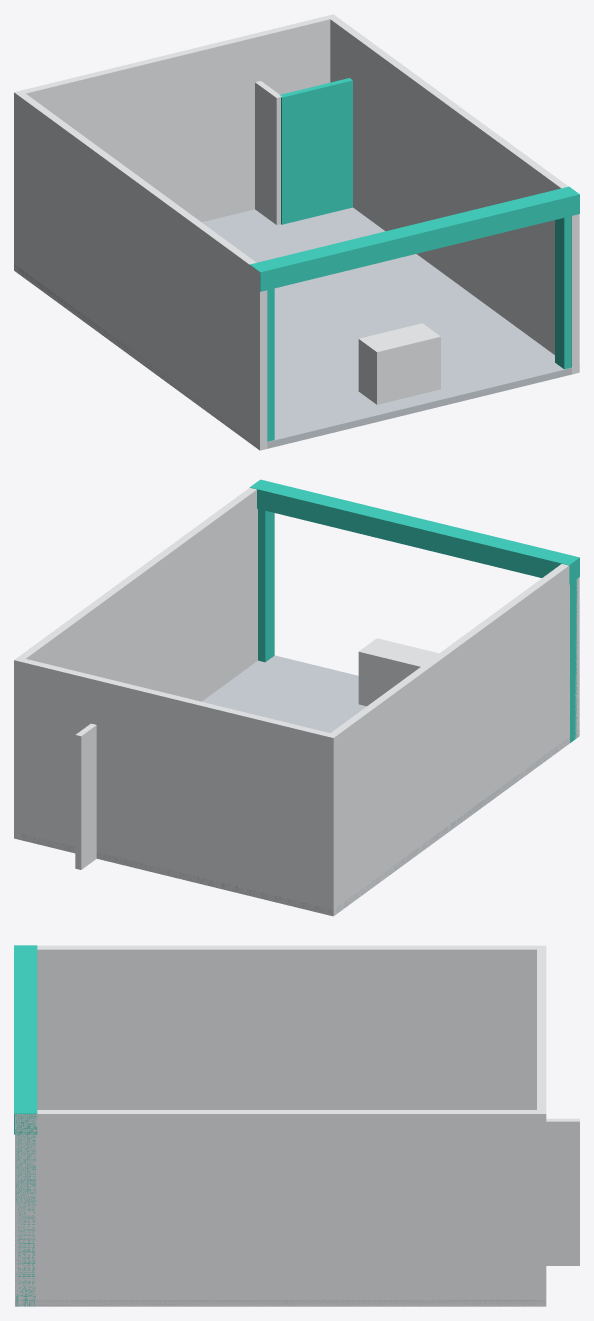
The picture shows the model from 3 angles, top to bottom: view 1: azimuth 30°, elevation 25°; view 2: azimuth 150°, elevation 25°; view 3: azimuth 270°, elevation 25°; orthographic projection. The views are drawn at different scales.
Parts seen in each view (by area): view 1: Exhibition Booth Concept; view 2: Exhibition Booth Concept; view 3: Exhibition Booth Concept.
Part boxes in pixels (box(x1,y1,x2,y2)): Exhibition Booth Concept: box(14, 14, 579, 450); Exhibition Booth Concept: box(14, 479, 579, 916); Exhibition Booth Concept: box(14, 945, 579, 1306).
Size of the model in its own units: 6 by 3.2 by 8.52.
